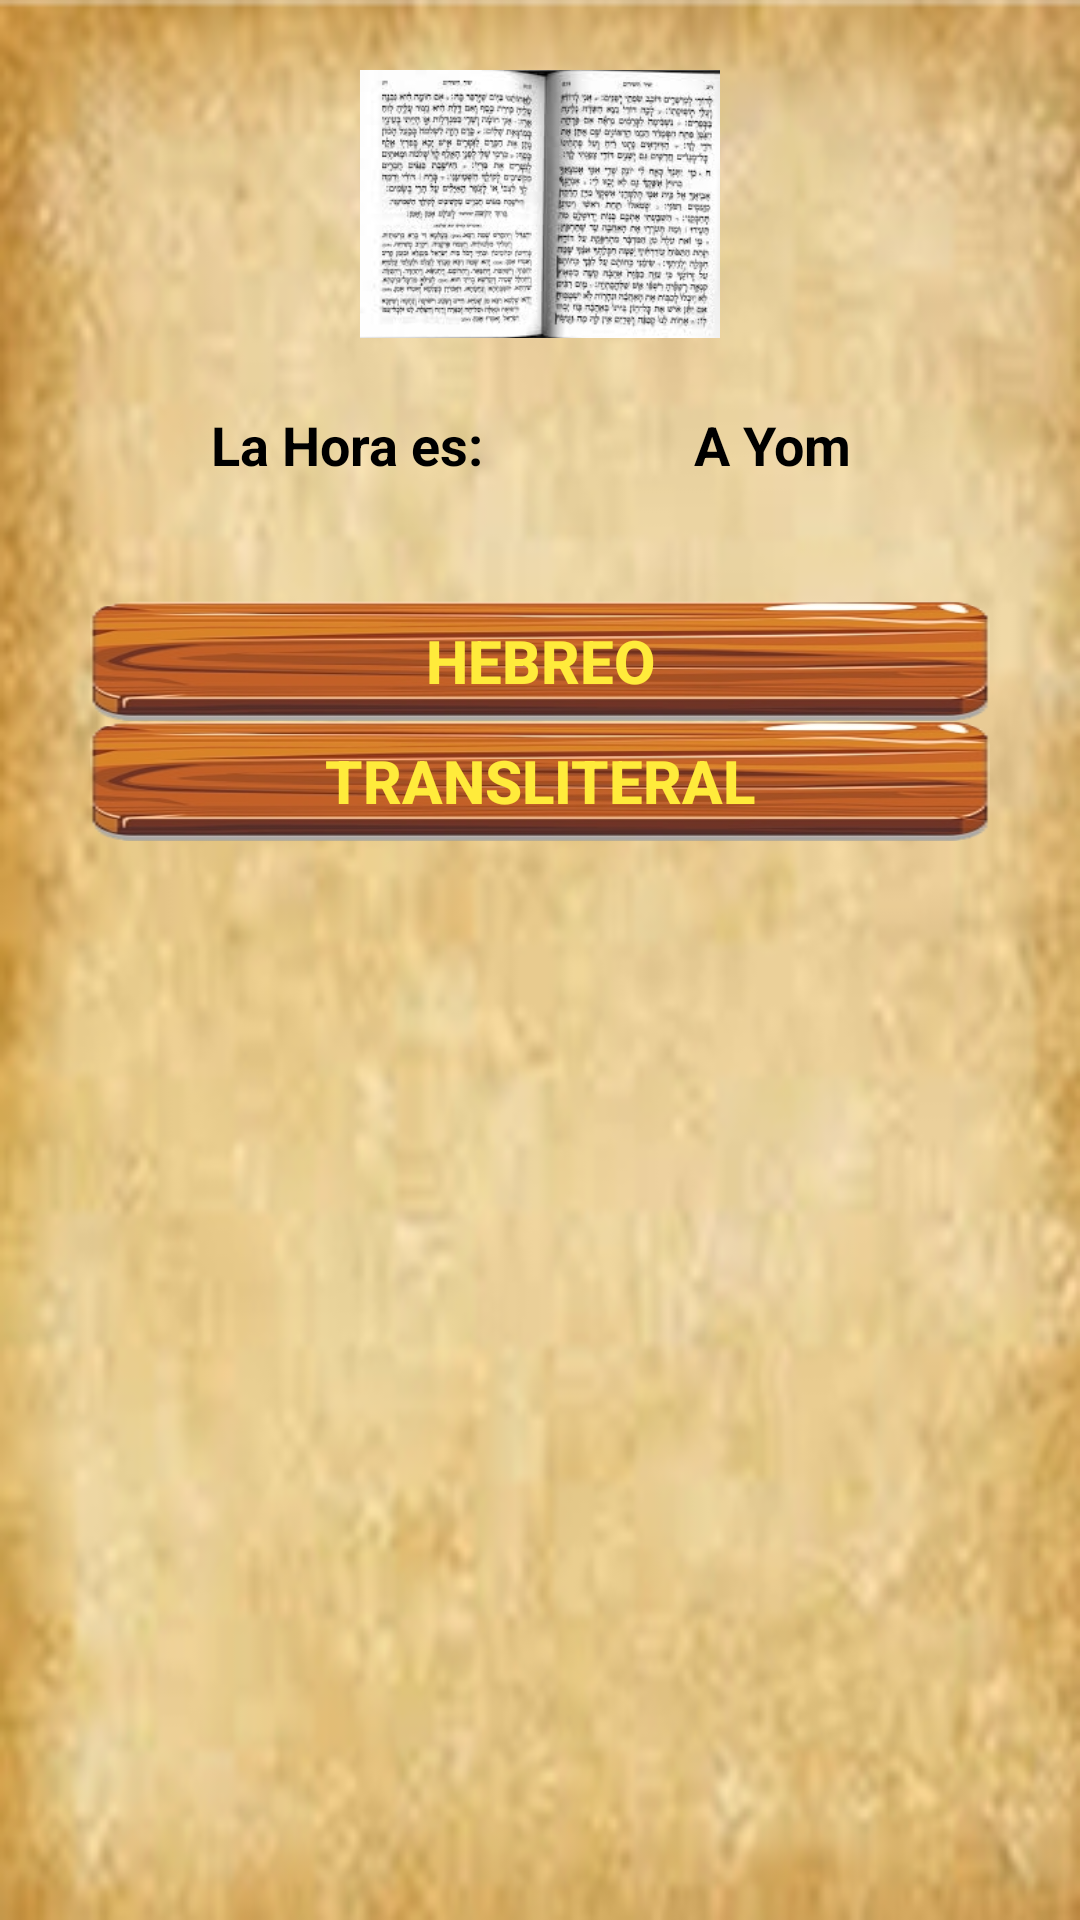

Where icons sit on this 1080×1920 app screen, as [x1,y1,x2,y2]:
imagensidur: [360,24,720,338]
